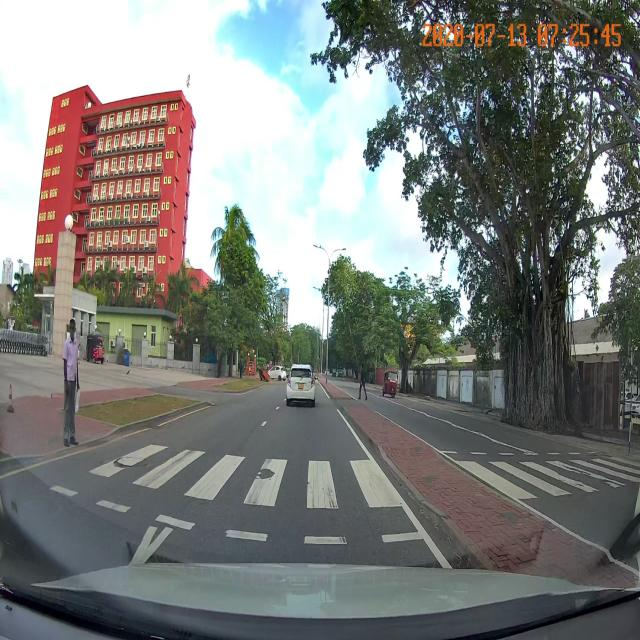Crosswalk: (43, 438, 640, 549)
